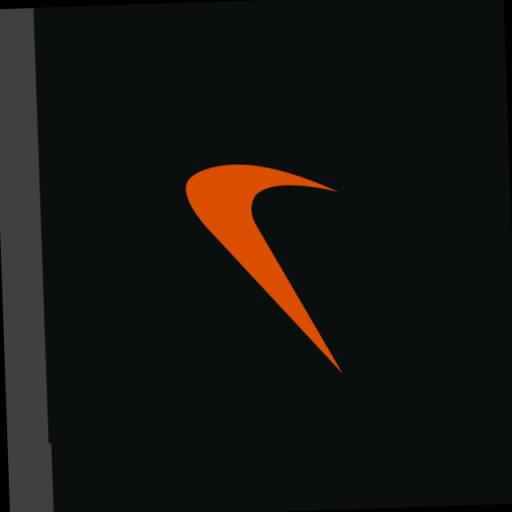Nike: (184, 157, 342, 378)
